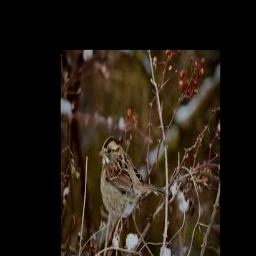Sparrow: (97, 136, 165, 230)
